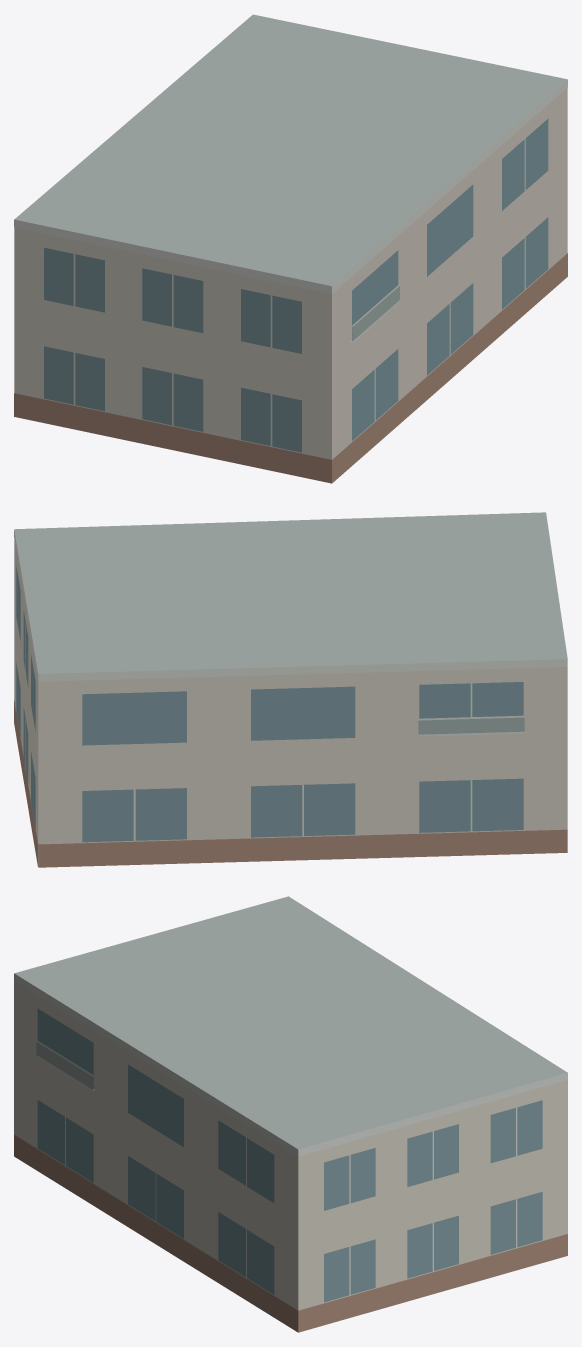
Rendered from survey-upis-32619273.glb.
3 views of the same model, one above another, from view 1: azimuth 30°, elevation 25°; view 2: azimuth 150°, elevation 25°; view 3: azimuth 270°, elevation 25° (orthographic). The views are drawn at different scales.
Visible parts, largest first — view 1: survey-upis-32619273.tmp; view 2: survey-upis-32619273.tmp; view 3: survey-upis-32619273.tmp.
Boxes of the visible parts, x1=… form: survey-upis-32619273.tmp: x1=14, y1=14, x2=567, y2=483; survey-upis-32619273.tmp: x1=14, y1=512, x2=567, y2=867; survey-upis-32619273.tmp: x1=14, y1=896, x2=567, y2=1332.
Size of the model in its own units: 18.1 by 6.1 by 16.73.
